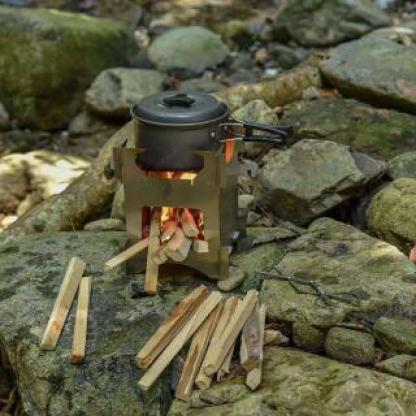fire: (153, 168, 212, 231)
